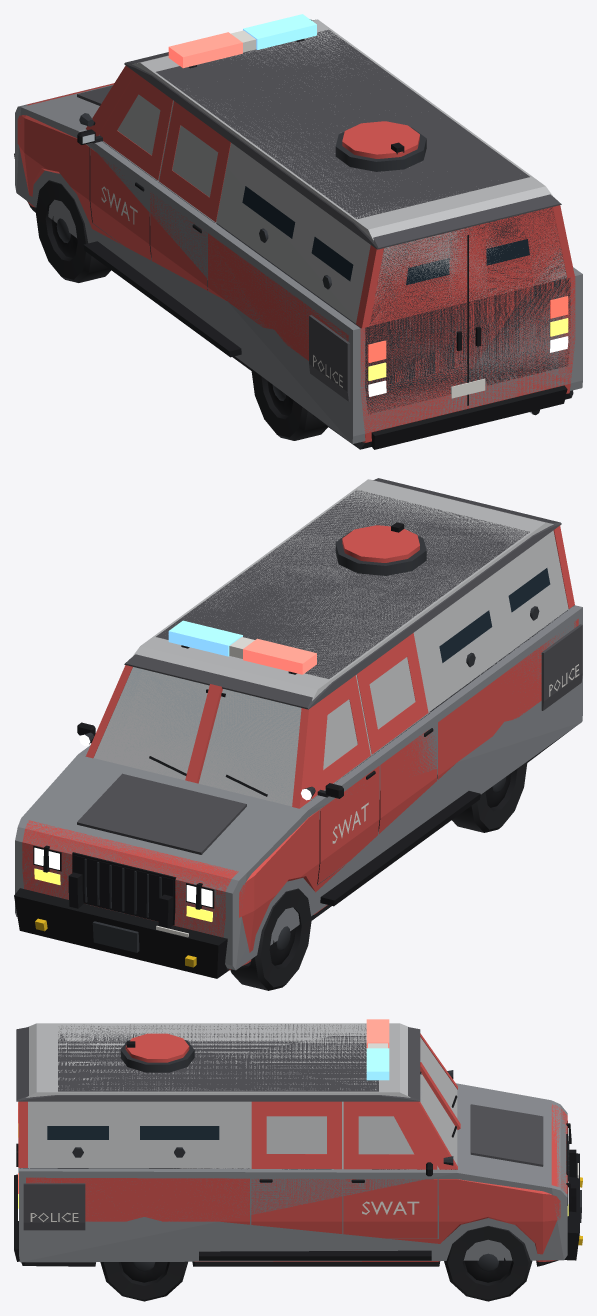
Rendered from car_swat.glb.
3 renders of one model, top to bottom at view 1: azimuth 30°, elevation 25°; view 2: azimuth 150°, elevation 25°; view 3: azimuth 270°, elevation 25°, orthographic. The views are drawn at different scales.
Parts seen in each view (by area): view 1: car_swat__body, car_swat__col_body, car_swat__col_cabin, car_swat__door_fl, car_swat__door_rl, car_swat__wheel_fl, car_swat__wheel_rl; view 2: car_swat__body, car_swat__col_cabin, car_swat__col_body, car_swat__door_fl, car_swat__door_rl, car_swat__wheel_fl, car_swat__wheel_rl; view 3: car_swat__body, car_swat__col_cabin, car_swat__col_body, car_swat__door_fr, car_swat__door_rr, car_swat__wheel_fr, car_swat__wheel_rr.
Part boxes in pixels (x1=…): car_swat__body: x1=14, y1=14, x2=575, y2=449; car_swat__col_body: x1=15, y1=84, x2=582, y2=443; car_swat__col_cabin: x1=99, y1=19, x2=566, y2=323; car_swat__door_fl: x1=77, y1=73, x2=173, y2=260; car_swat__door_rl: x1=150, y1=101, x2=230, y2=290; car_swat__wheel_fl: x1=35, y1=180, x2=111, y2=282; car_swat__wheel_rl: x1=251, y1=369, x2=327, y2=440; car_swat__body: x1=14, y1=478, x2=582, y2=978; car_swat__col_cabin: x1=93, y1=479, x2=568, y2=806; car_swat__col_body: x1=15, y1=605, x2=582, y2=970; car_swat__door_fl: x1=311, y1=675, x2=379, y2=884; car_swat__door_rl: x1=356, y1=633, x2=437, y2=833; car_swat__wheel_fl: x1=230, y1=888, x2=311, y2=990; car_swat__wheel_rl: x1=452, y1=762, x2=527, y2=832; car_swat__body: x1=14, y1=1019, x2=582, y2=1266; car_swat__col_cabin: x1=26, y1=1023, x2=457, y2=1169; car_swat__col_body: x1=19, y1=1083, x2=567, y2=1262; car_swat__door_fr: x1=343, y1=1101, x2=437, y2=1238; car_swat__door_rr: x1=251, y1=1101, x2=342, y2=1233; car_swat__wheel_fr: x1=444, y1=1226, x2=532, y2=1301; car_swat__wheel_rr: x1=100, y1=1261, x2=187, y2=1301.
Size of what is drawn, in the model's own units: 2.76 by 2.71 by 6.45.
13 materials, 2 textured.
